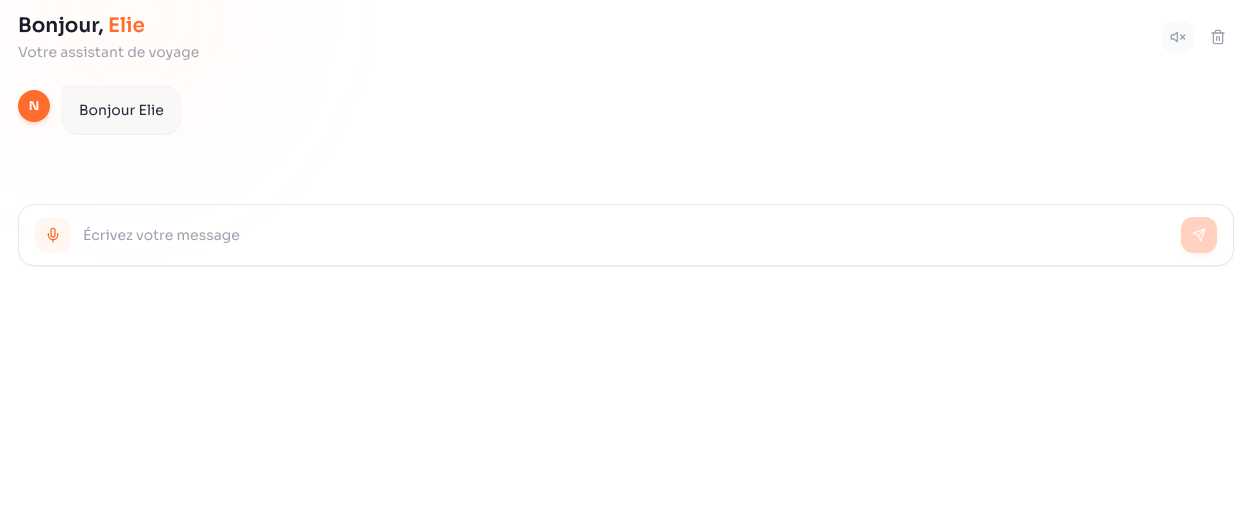
Scenario: IAPage › efface toute la conversation
Click the button titled "Effacer la conversation" at (1218, 37), box [1202,21,1234,53]
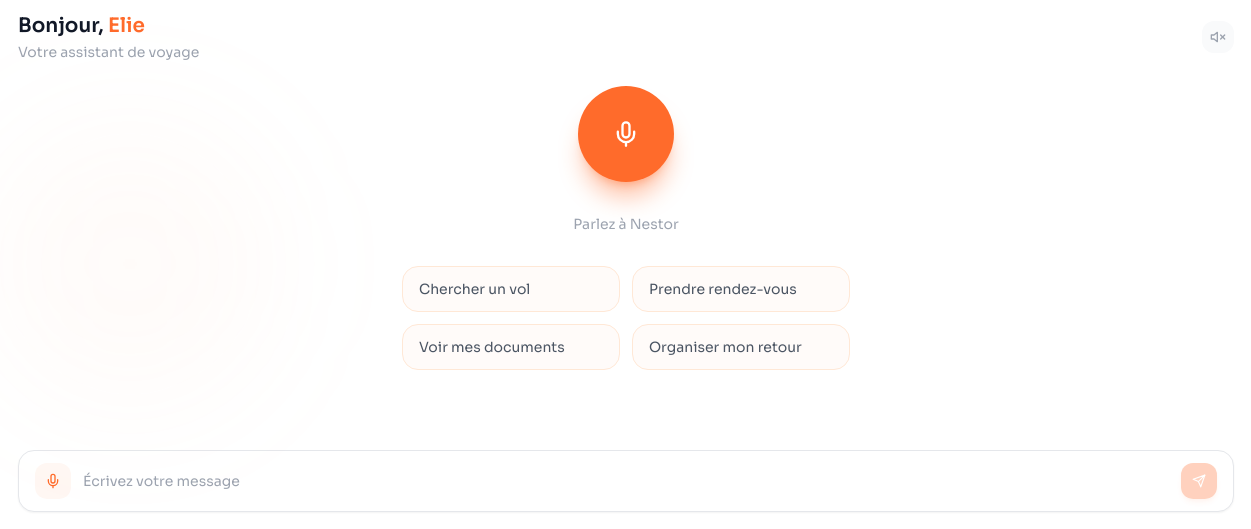
Expected: the text "Bonjour Elie" is gone
Expected: the button "Prendre rendez-vous" is shown, [632,266,850,312]
